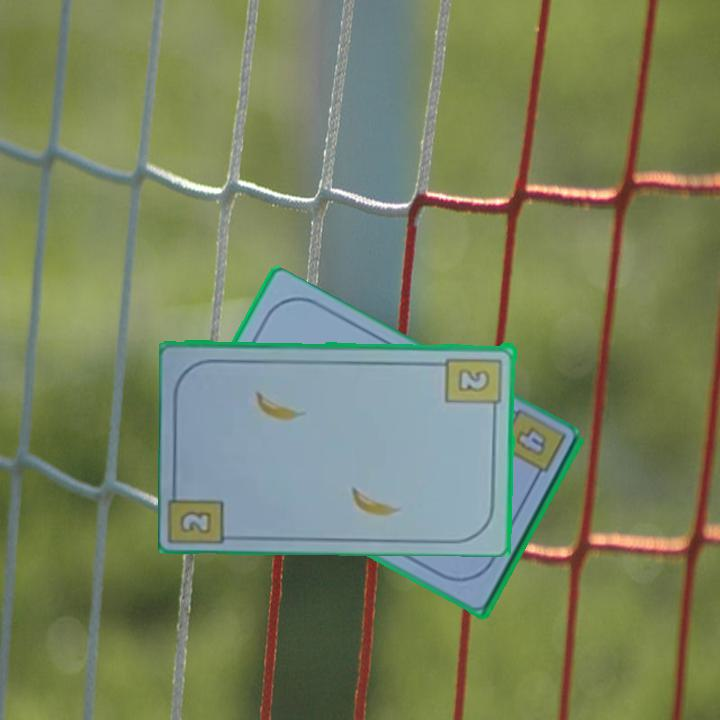2b: (444, 353, 505, 416), (176, 507, 215, 536)
4b: (511, 423, 549, 460)
